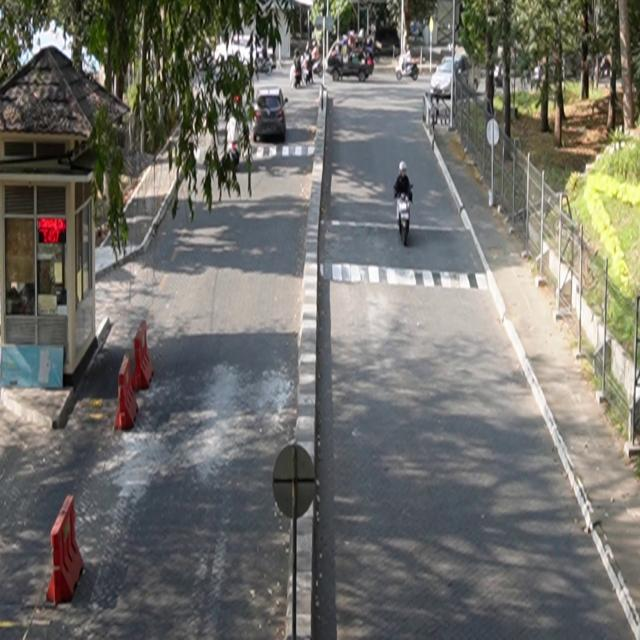car: (254, 87, 290, 143)
